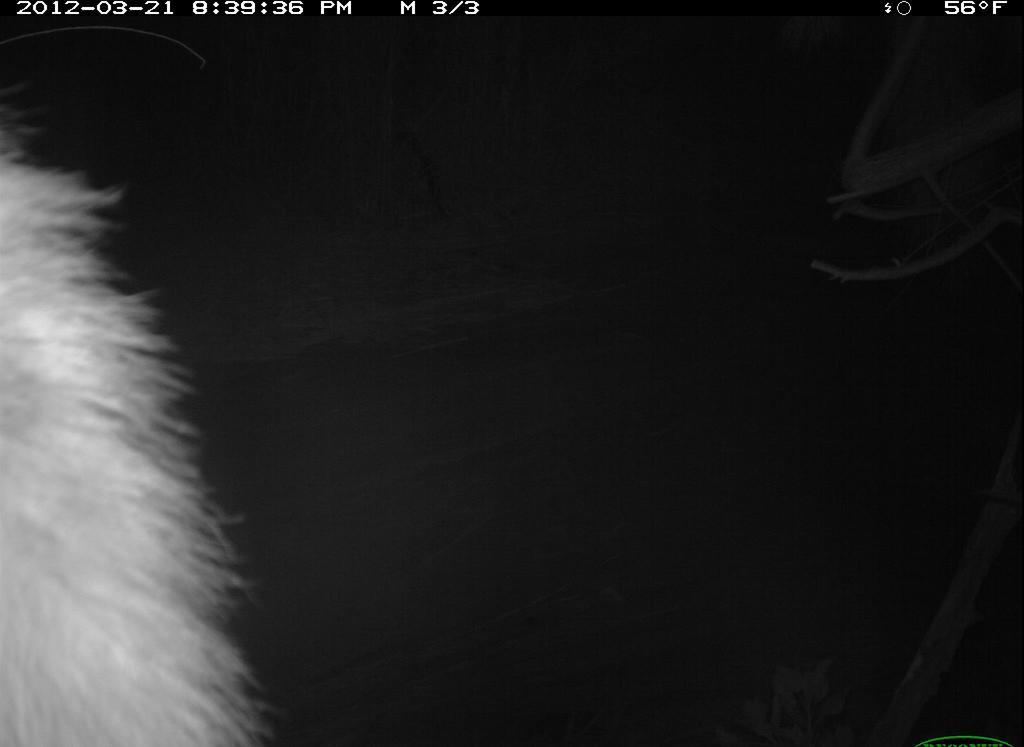coyote: (7, 129, 282, 744)
